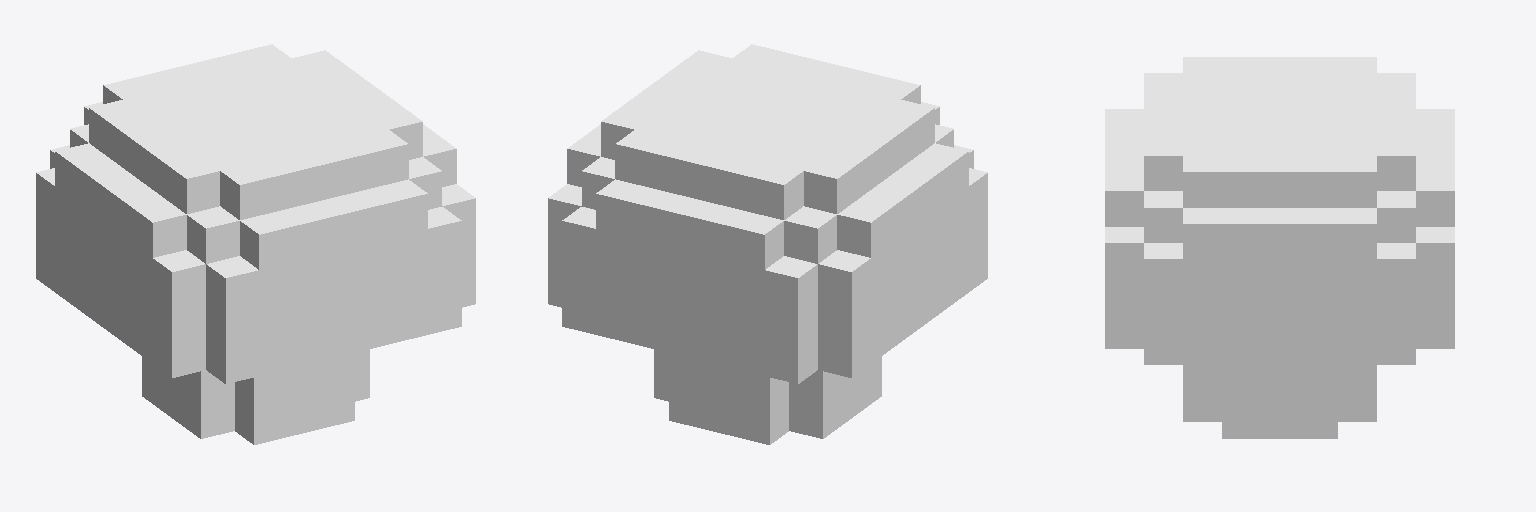
File: MelochevkaLes-2.obj
The picture shows the model from 3 angles: view 1: azimuth 30°, elevation 25°; view 2: azimuth 150°, elevation 25°; view 3: azimuth 270°, elevation 25°; orthographic projection.
Visible parts, largest first — view 1: object 1; view 2: object 1; view 3: object 1.
Boxes of the visible parts, box(x1,y1,x2,y2) form: object 1: box(36, 44, 475, 444); object 1: box(548, 44, 987, 444); object 1: box(1105, 57, 1454, 438).
Size of the model in its own units: 0.9 by 0.8 by 0.9.